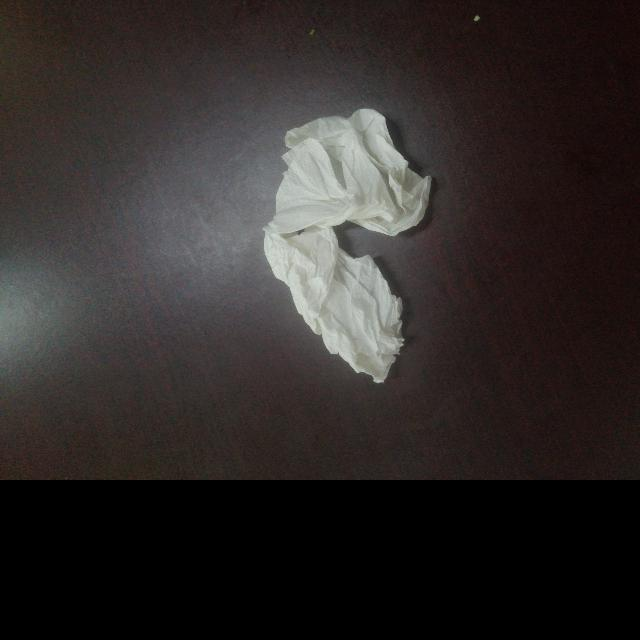kitchen paper: (252, 97, 448, 395)
